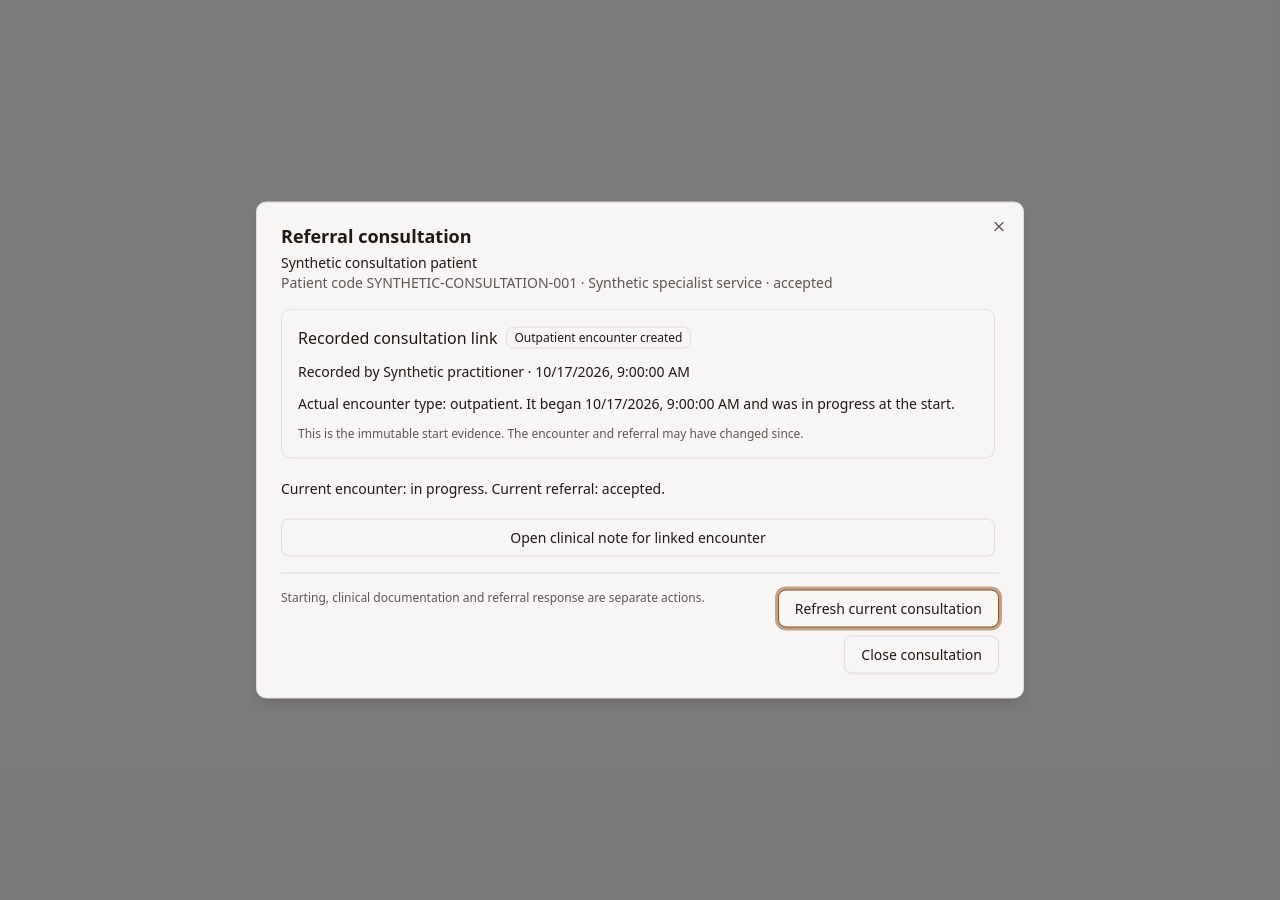
rechecks the exact linked encounter but requires independent note authority before mounting an editor
Click the button "Open clinical note for linked encounter". click: (638, 538)
box: [281, 518, 995, 556]
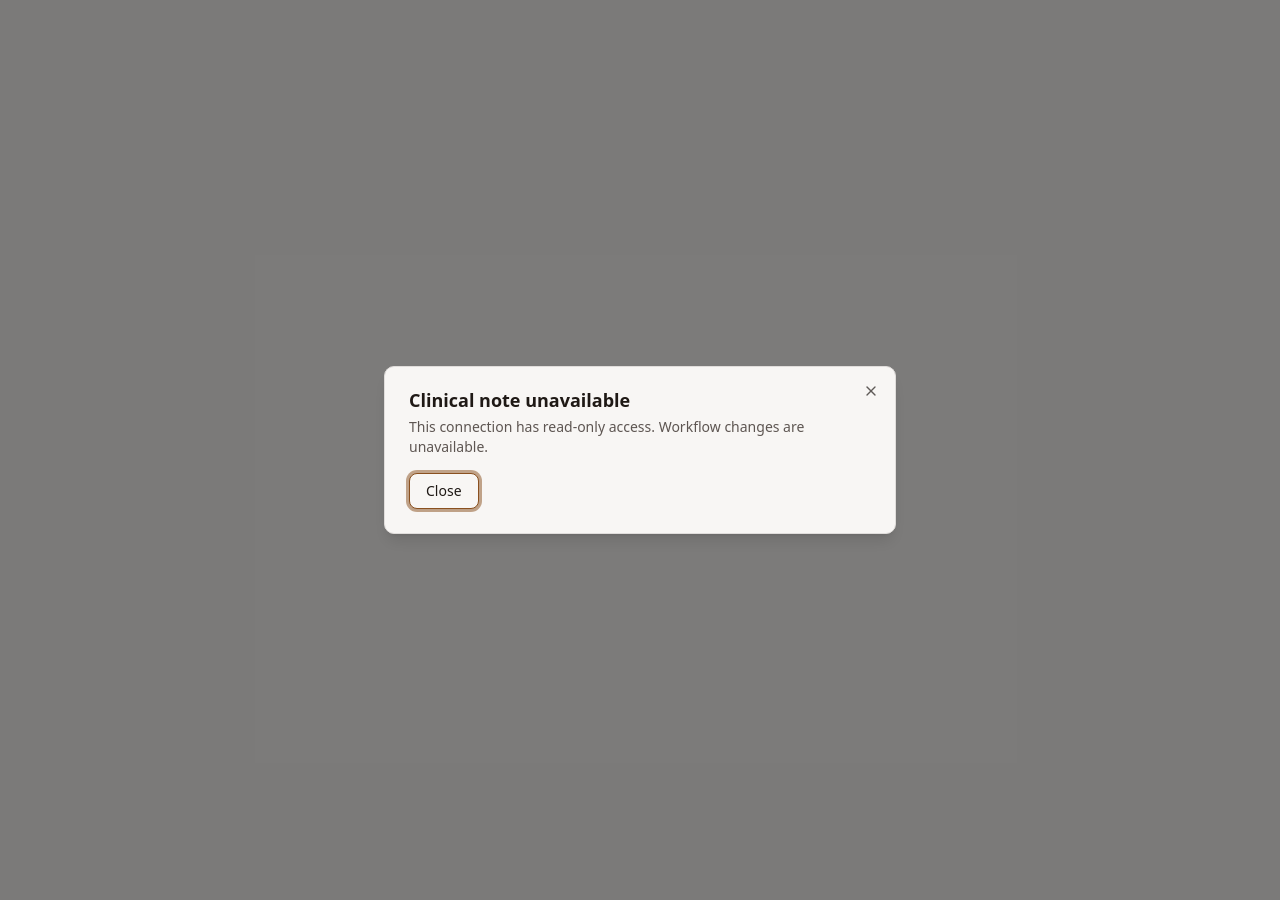
Result: the heading "Clinical note unavailable" is shown at [409, 388, 630, 412]
